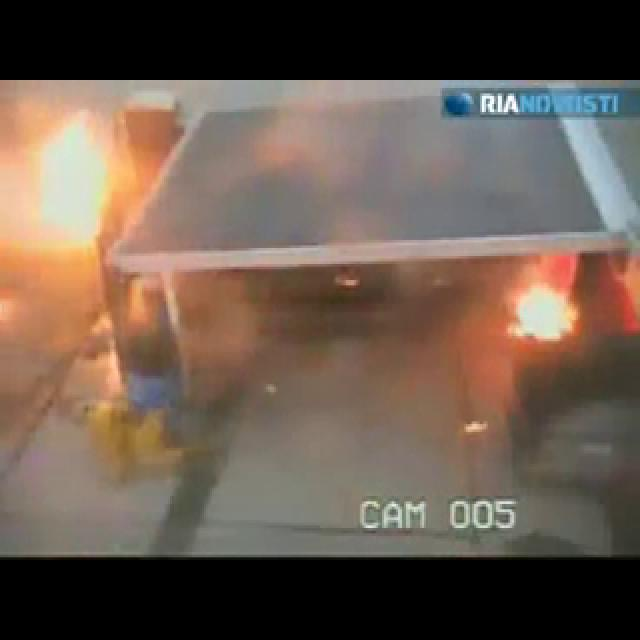explosion: (17, 103, 640, 419)
